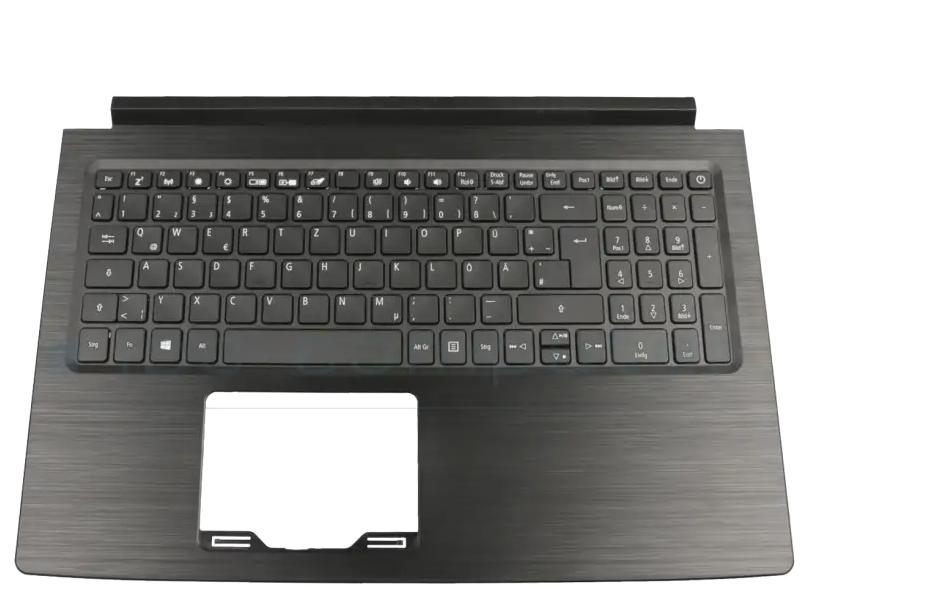0: (433, 192, 463, 221)
1: (116, 192, 146, 220)
2: (151, 192, 181, 221)
3: (186, 192, 216, 221)
4: (221, 191, 251, 221)
5: (256, 192, 287, 220)
6: (291, 192, 322, 221)
7: (326, 192, 358, 221)
8: (362, 192, 392, 221)
9: (397, 192, 428, 221)
a: (136, 257, 168, 288)
accent: (504, 192, 534, 221)
ae: (496, 258, 529, 289)
alt-left: (185, 328, 218, 363)
altgr-right: (406, 328, 434, 365)
b: (296, 293, 330, 324)
c: (224, 292, 256, 323)
caret: (90, 191, 113, 220)
comma: (406, 293, 439, 324)
d: (207, 257, 240, 288)
del: (538, 192, 596, 221)
e: (201, 224, 233, 254)
enter: (559, 224, 599, 288)
f: (243, 258, 275, 289)
g: (279, 258, 311, 289)
h: (315, 258, 348, 289)
hash: (532, 258, 569, 289)
i: (379, 224, 411, 255)
j: (351, 258, 384, 289)
k: (388, 258, 420, 290)
keyboard: (66, 158, 742, 375)
l: (423, 258, 456, 289)
less: (117, 292, 148, 322)
m: (369, 293, 402, 324)
minus: (478, 293, 512, 324)
n: (333, 293, 365, 324)
o: (415, 225, 447, 255)
oe: (460, 258, 493, 289)
p: (452, 225, 482, 255)
plus: (522, 224, 554, 255)
point: (442, 293, 476, 324)
q: (131, 224, 162, 253)
r: (237, 224, 268, 254)
s: (171, 257, 203, 288)
shift-left: (80, 291, 116, 322)
shift-lock: (84, 257, 133, 287)
shift-right: (515, 293, 604, 324)
space: (222, 327, 401, 363)
ss: (468, 192, 499, 221)
strg-left: (76, 326, 110, 362)
strg-right: (470, 328, 499, 365)
t: (272, 224, 303, 254)
tab: (86, 223, 127, 253)
u: (344, 225, 375, 255)
ue: (486, 225, 518, 255)
v: (261, 293, 293, 323)
w: (166, 224, 197, 253)
x: (187, 292, 220, 323)
y: (152, 292, 184, 323)
z: (308, 224, 339, 255)
